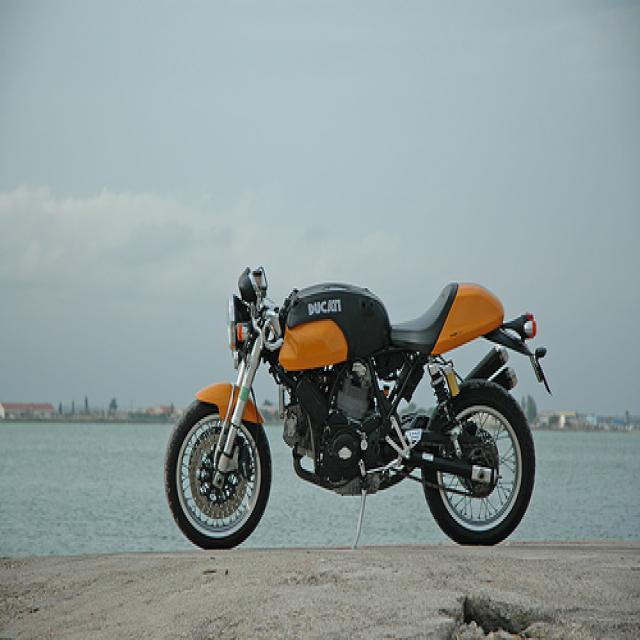motor: (161, 263, 554, 550)
